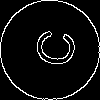C: (25, 25, 78, 70)
